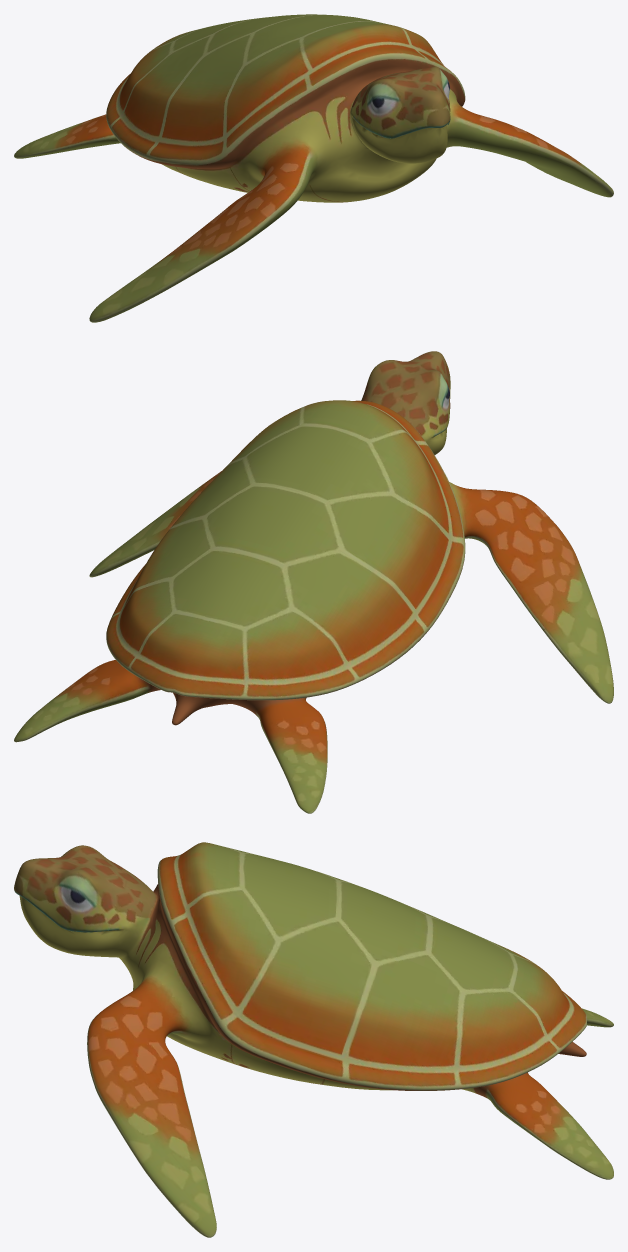
The model's file is sea-turtle.glb.
The picture shows the model from 3 angles, top to bottom: view 1: azimuth 30°, elevation 25°; view 2: azimuth 150°, elevation 25°; view 3: azimuth 270°, elevation 25°; orthographic projection. The views are drawn at different scales.
Parts seen in each view (by area): view 1: sea_turtle.1; view 2: sea_turtle.1; view 3: sea_turtle.1.
Boxes of the visible parts, x1,y1,x2,y2 form: sea_turtle.1: (14, 14, 613, 322); sea_turtle.1: (14, 351, 613, 813); sea_turtle.1: (14, 842, 613, 1237).
Bounding box in the file's own units: 0.117 × 0.0499 × 0.1093.
1 material, 1 textured.
